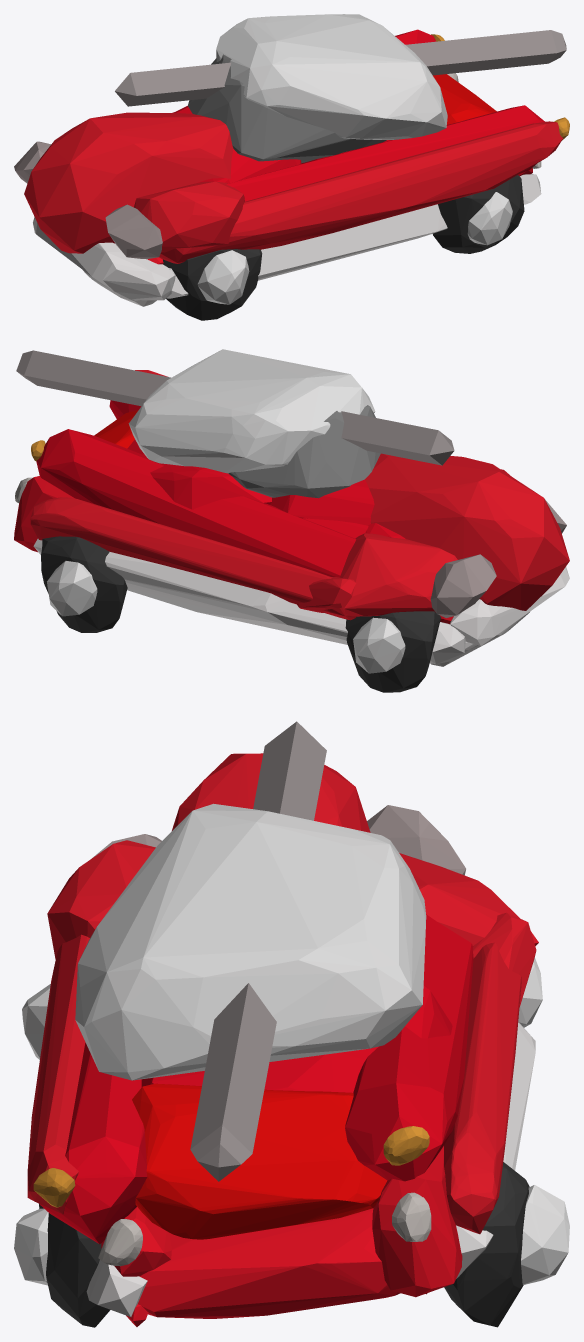
Rendered from wdm.glb.
3 renders of one model, top to bottom at view 1: azimuth 30°, elevation 25°; view 2: azimuth 150°, elevation 25°; view 3: azimuth 270°, elevation 25°, orthographic. The views are drawn at different scales.
Visible parts, largest first — view 1: brush_ShinyHull_g0_b0_0; view 2: brush_ShinyHull_g0_b0_0; view 3: brush_ShinyHull_g0_b0_0.
Boxes of the visible parts, box(x1,y1,x2,y2) form: brush_ShinyHull_g0_b0_0: box(14, 14, 569, 320); brush_ShinyHull_g0_b0_0: box(14, 349, 569, 692); brush_ShinyHull_g0_b0_0: box(14, 721, 569, 1327).
Size of the model in its own units: 5.13 by 2.06 by 2.75.
